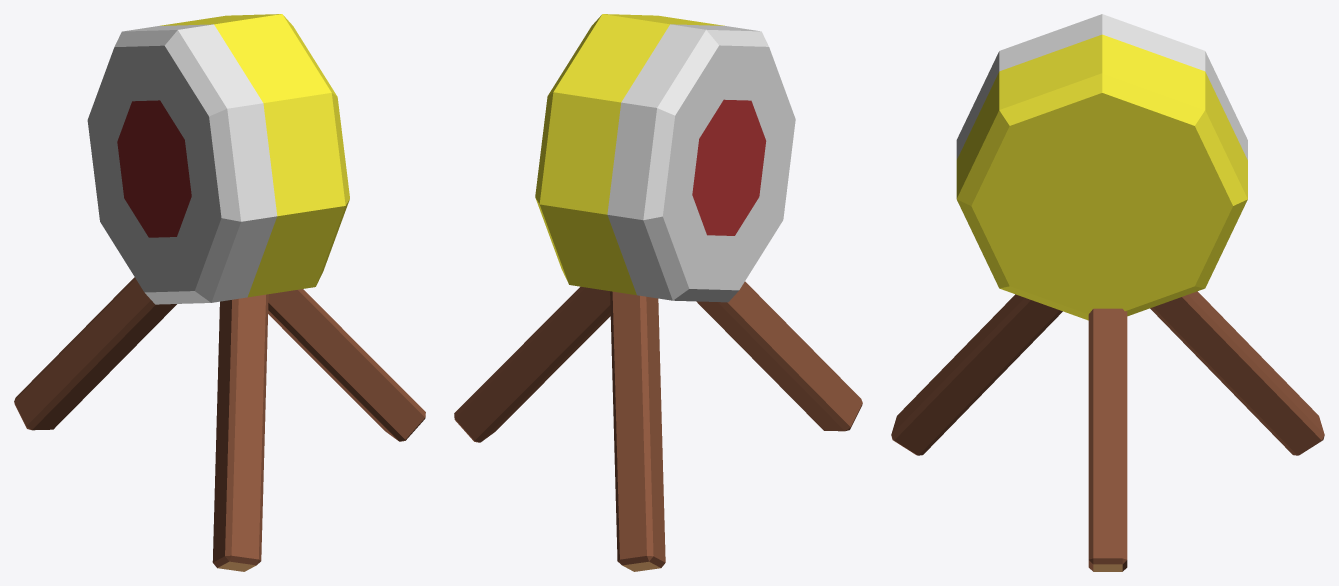
Rendered from Target 2.fbx.
3 views of the same model, side by side, from view 1: azimuth 30°, elevation 25°; view 2: azimuth 150°, elevation 25°; view 3: azimuth 270°, elevation 25° (orthographic). The views are drawn at different scales.
Visible parts, largest first — view 1: Target_2; view 2: Target_2; view 3: Target_2.
Part boxes in pixels (x1,y1,x2,y2): Target_2: (14,14,425,571); Target_2: (454,14,862,571); Target_2: (891,14,1324,571).
Bounding box in the file's own units: 0.4334 × 0.645 × 0.5572.
2 materials, 2 textured.
